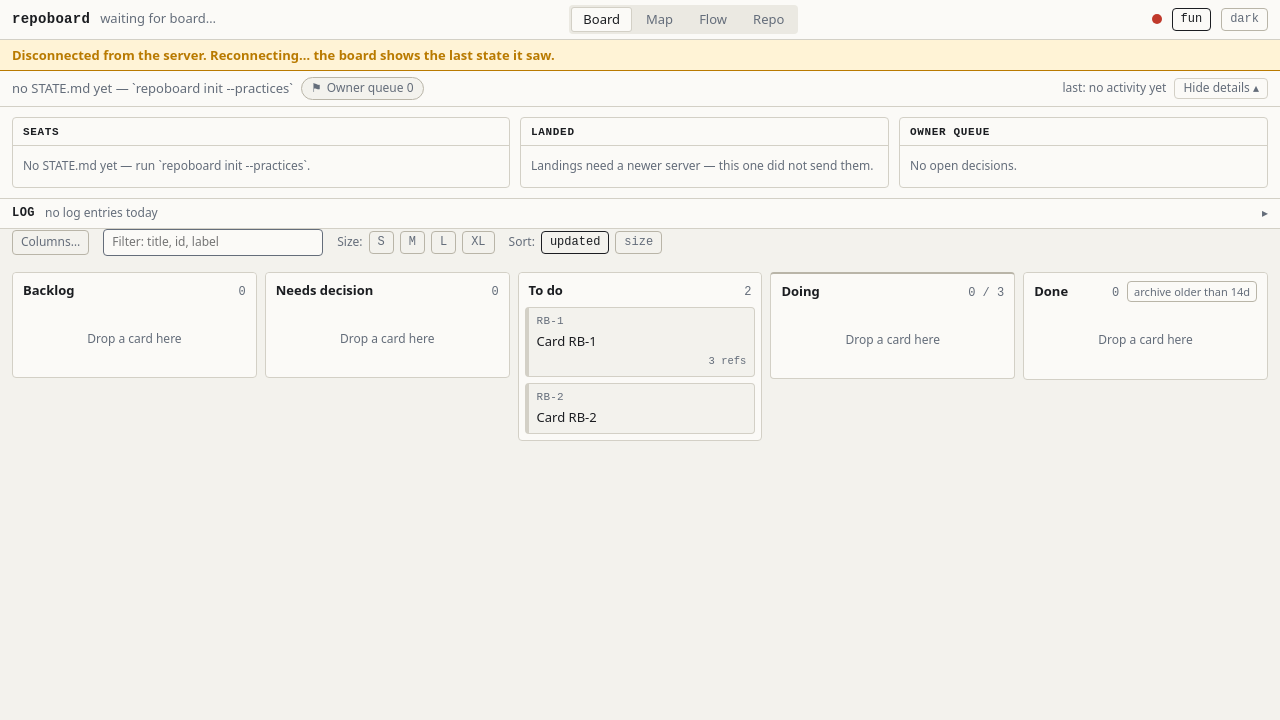
Test: drawer References (K7) › shows a ref count on the tile and renders two refs plus an error from the fetched array
Check: the text with test id "ref-count" reads "3 refs", box [708,354,746,368]
Click the button titled "Open RB-1".
click(550, 321)  # box [537,314,564,329]
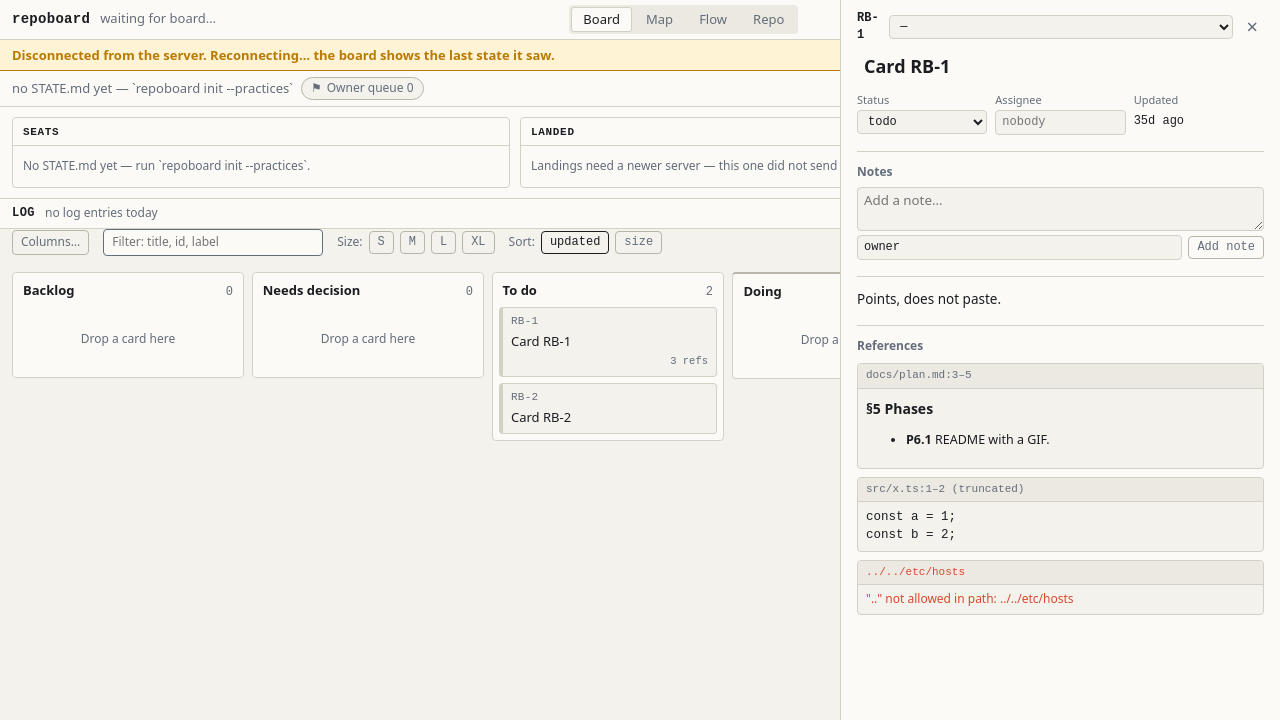
Check: the number of elements with test id "ref" is 2, box [857,363,1264,469]; [857,477,1264,552]
Check: the text "docs/plan.md:3–5" is shown, box [858,364,1263,388]
Check: the heading "§5 Phases" is shown, box [866,398,933,418]
